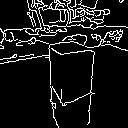cube: (38, 38, 100, 107)
